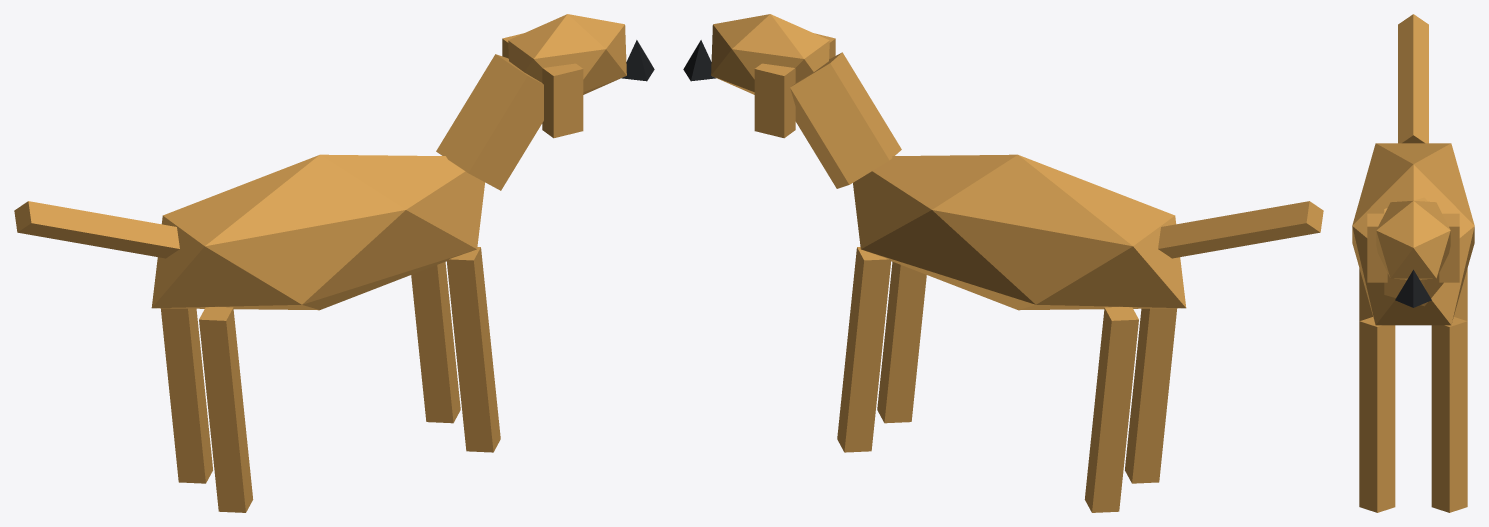
File: hund.glb
3 views of the same model, side by side, from view 1: azimuth 30°, elevation 25°; view 2: azimuth 150°, elevation 25°; view 3: azimuth 270°, elevation 25° (orthographic). The views are drawn at different scales.
Parts seen in each view (by area): view 1: hund; view 2: hund; view 3: hund.
Boxes of the visible parts, x1=… form: hund: x1=14, y1=14, x2=654, y2=512; hund: x1=683, y1=14, x2=1323, y2=512; hund: x1=1352, y1=14, x2=1474, y2=512.
Size of the model in its own units: 1.29 by 0.7587 by 0.2382.
